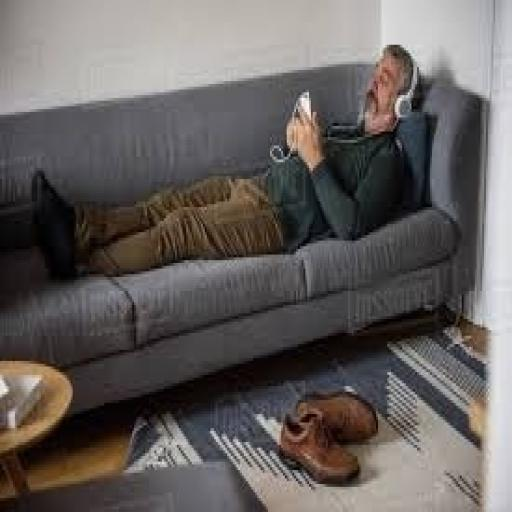listening_to_music: (30, 42, 424, 283)
